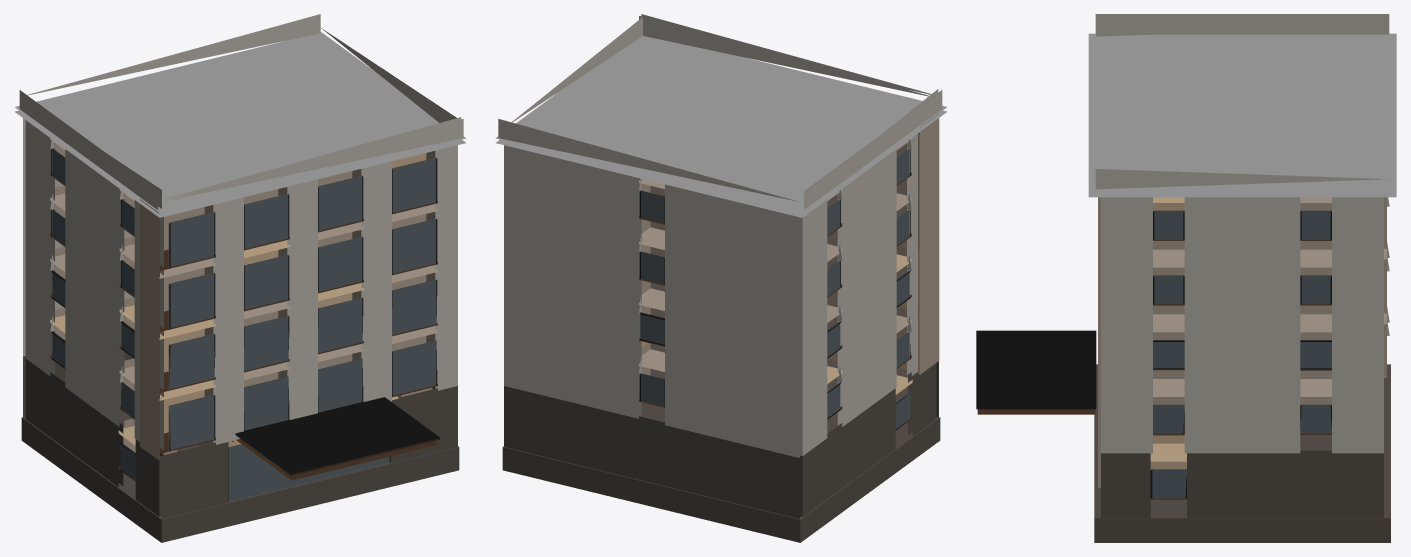
File: hotel_16x13_5_far.glb
3 views of the same model, side by side, from view 1: azimuth 30°, elevation 25°; view 2: azimuth 150°, elevation 25°; view 3: azimuth 270°, elevation 25° (orthographic). The views are drawn at different scales.
Parts seen in each view (by area): view 1: hotel_16x13_5; view 2: hotel_16x13_5; view 3: hotel_16x13_5.
Part boxes in pixels (<box>): hotel_16x13_5: <box>15,14,466,542</box>; hotel_16x13_5: <box>495,14,946,542</box>; hotel_16x13_5: <box>976,14,1396,542</box>.
Size of the model in its own units: 16.6 by 18.19 by 18.55.
